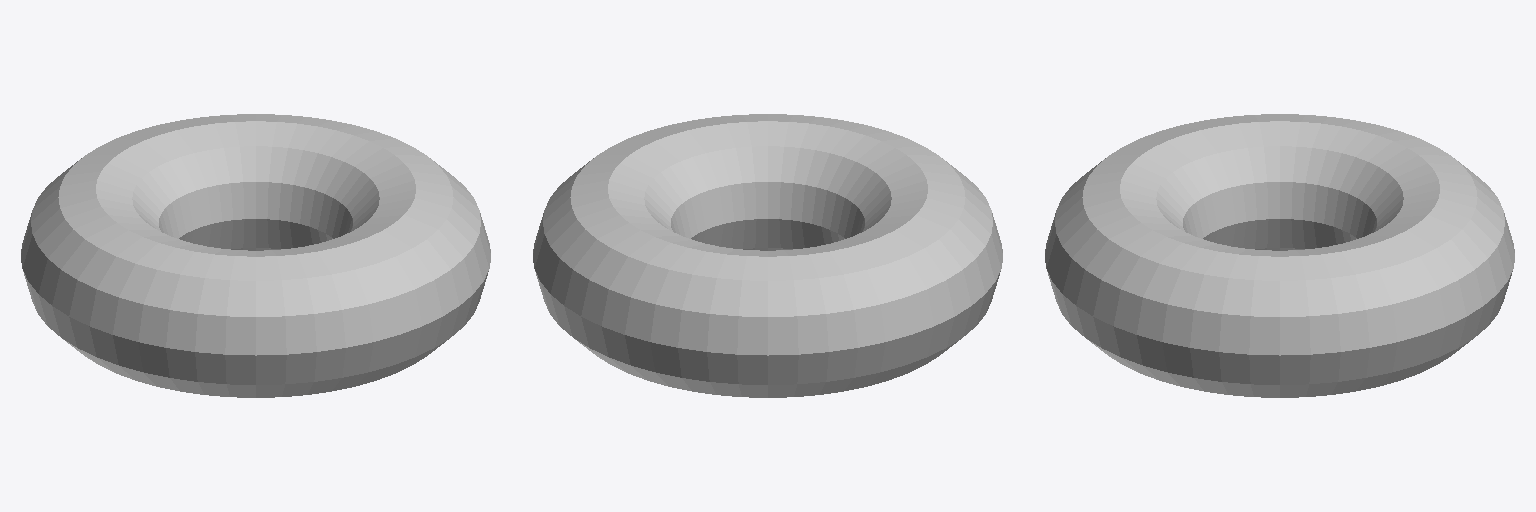
File: health.obj
3 views of the same model, side by side, from view 1: azimuth 30°, elevation 25°; view 2: azimuth 150°, elevation 25°; view 3: azimuth 270°, elevation 25° (orthographic).
Parts seen in each view (by area): view 1: Torus; view 2: Torus; view 3: Torus.
Boxes of the visible parts, box(x1,y1,x2,y2) form: Torus: box(21, 114, 490, 397); Torus: box(533, 114, 1002, 397); Torus: box(1045, 114, 1514, 397).
Size of the model in its own units: 2.18 by 0.6849 by 2.18.